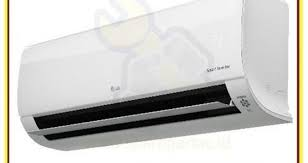ac: (16, 1, 294, 154)
